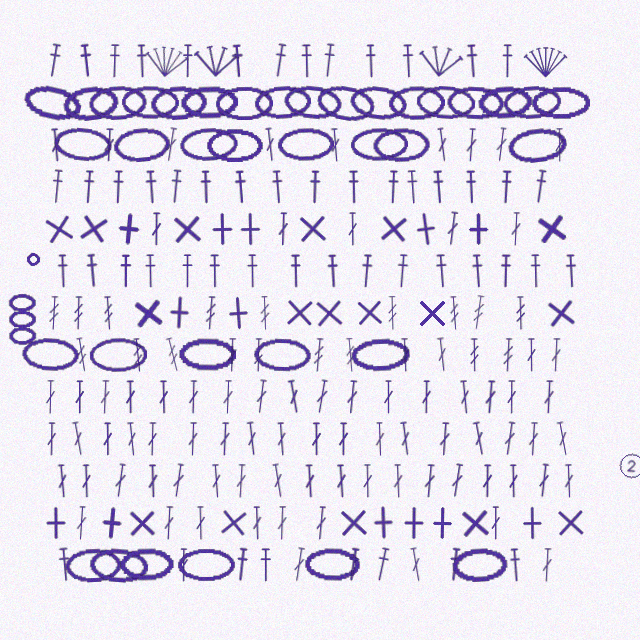chain: (20, 80, 84, 126), (314, 81, 378, 125), (506, 125, 568, 165), (282, 83, 344, 122), (52, 125, 114, 164), (61, 83, 121, 123), (348, 83, 408, 123), (112, 125, 172, 164), (88, 546, 149, 584), (415, 84, 476, 121), (502, 84, 563, 121), (88, 84, 148, 121), (149, 84, 209, 121), (253, 84, 312, 121), (179, 126, 238, 163), (350, 337, 410, 373), (21, 336, 79, 373), (451, 546, 509, 583), (64, 547, 123, 583), (477, 84, 534, 121), (446, 85, 504, 121), (253, 337, 311, 373), (121, 85, 180, 120), (180, 85, 238, 120), (350, 127, 408, 162), (372, 127, 430, 162), (89, 337, 147, 372), (178, 337, 236, 372), (531, 86, 590, 120), (177, 548, 236, 582), (388, 85, 445, 120), (277, 127, 334, 162), (304, 547, 361, 582), (215, 86, 273, 120), (206, 128, 264, 162), (119, 547, 175, 582)
double: (163, 127, 179, 162), (286, 379, 302, 414), (314, 379, 330, 414), (70, 421, 86, 456), (471, 421, 487, 456), (555, 421, 571, 456), (270, 463, 286, 498), (449, 463, 465, 498), (291, 547, 307, 582), (408, 547, 424, 582), (435, 127, 450, 162), (494, 127, 509, 162), (445, 211, 460, 246), (254, 379, 269, 414), (398, 421, 413, 456), (502, 421, 517, 456), (113, 463, 128, 498), (171, 463, 186, 498), (263, 127, 277, 162), (435, 337, 449, 372), (245, 421, 259, 456), (537, 463, 551, 498), (49, 128, 63, 162), (345, 380, 359, 414), (458, 380, 472, 414), (125, 422, 139, 456), (314, 506, 328, 540), (329, 128, 342, 162), (465, 128, 478, 162), (484, 380, 497, 414), (275, 422, 288, 456), (438, 422, 451, 456), (527, 422, 540, 456), (56, 464, 69, 498), (210, 464, 223, 498), (335, 464, 348, 498), (423, 464, 436, 498), (75, 506, 88, 540), (103, 128, 115, 162), (277, 212, 289, 246), (510, 212, 522, 246), (226, 338, 238, 372), (399, 338, 411, 372), (550, 338, 562, 372), (99, 380, 111, 414), (222, 380, 234, 414), (543, 380, 555, 414), (187, 422, 199, 456), (219, 422, 231, 456), (374, 422, 386, 456), (147, 464, 159, 498), (235, 464, 247, 498), (304, 464, 316, 498), (392, 464, 404, 498), (563, 464, 575, 498), (163, 506, 175, 540), (251, 506, 263, 540), (276, 506, 288, 540), (541, 548, 553, 582), (554, 128, 565, 162), (151, 212, 162, 246), (347, 212, 358, 246), (526, 338, 537, 372), (45, 380, 56, 414), (74, 380, 85, 414), (125, 380, 136, 414), (158, 380, 169, 414), (188, 380, 199, 414), (383, 380, 394, 414), (421, 380, 432, 414), (506, 380, 517, 414), (46, 422, 57, 456), (102, 422, 113, 456), (147, 422, 158, 456), (311, 422, 322, 456), (338, 422, 349, 456), (81, 464, 92, 498), (362, 464, 373, 498), (482, 464, 493, 498), (508, 464, 519, 498), (195, 506, 206, 540), (490, 506, 501, 540), (178, 548, 189, 582)
enseble_chain: (6, 293, 38, 347)
fan: (142, 41, 191, 80), (416, 41, 465, 80), (193, 42, 240, 79), (523, 44, 568, 78)
half_double: (373, 547, 392, 582), (45, 43, 63, 78), (271, 43, 289, 78), (532, 169, 549, 204), (345, 547, 362, 582), (78, 43, 94, 78), (321, 43, 337, 78), (49, 169, 65, 204), (168, 169, 184, 204), (234, 547, 250, 582), (447, 547, 463, 582), (85, 253, 100, 288), (57, 547, 72, 582), (230, 44, 245, 78), (465, 44, 480, 78), (81, 170, 96, 204), (144, 170, 159, 204), (233, 170, 248, 204), (270, 170, 285, 204), (405, 170, 420, 204), (431, 170, 446, 204), (359, 254, 374, 288), (395, 254, 410, 288), (434, 254, 449, 288), (470, 254, 485, 288), (508, 548, 523, 582), (135, 44, 149, 78), (364, 44, 378, 78), (401, 44, 415, 78), (111, 170, 125, 204), (199, 170, 213, 204), (308, 170, 322, 204), (386, 170, 400, 204), (464, 170, 478, 204), (499, 170, 513, 204), (56, 254, 70, 288), (326, 254, 340, 288), (564, 254, 578, 288), (108, 44, 121, 78), (181, 44, 194, 78), (300, 44, 313, 78), (501, 44, 514, 78), (347, 170, 360, 204), (119, 254, 132, 288), (144, 254, 157, 288), (181, 254, 194, 288), (208, 254, 221, 288), (246, 254, 259, 288), (289, 254, 302, 288), (499, 254, 512, 288), (529, 254, 542, 288), (259, 548, 272, 582)
noise: (617, 451, 640, 480), (26, 252, 41, 267)
single: (39, 209, 79, 249), (74, 209, 113, 248), (532, 209, 571, 248), (407, 210, 445, 248), (129, 294, 167, 332), (542, 294, 580, 332), (375, 210, 412, 247), (215, 504, 252, 541), (111, 211, 147, 247), (169, 211, 205, 247), (220, 295, 256, 331), (311, 295, 347, 331), (94, 505, 130, 541), (457, 505, 493, 541), (295, 211, 330, 246), (162, 295, 197, 330), (282, 295, 317, 330), (352, 295, 387, 330), (336, 505, 371, 540), (366, 505, 401, 540), (553, 505, 588, 540), (205, 212, 239, 246), (233, 212, 267, 246), (461, 212, 495, 246), (415, 296, 449, 330), (39, 506, 73, 540), (125, 506, 159, 540), (397, 506, 431, 540), (425, 506, 459, 540), (515, 506, 549, 540)
treble: (164, 337, 182, 372), (74, 337, 90, 372), (471, 295, 486, 330), (131, 338, 145, 372), (102, 296, 115, 330), (204, 296, 217, 330), (448, 296, 461, 330), (312, 338, 325, 372), (344, 338, 357, 372), (48, 296, 60, 330), (259, 296, 271, 330), (502, 338, 514, 372), (73, 296, 84, 330), (387, 296, 398, 330), (515, 296, 526, 330), (253, 338, 264, 372), (469, 338, 480, 372)
